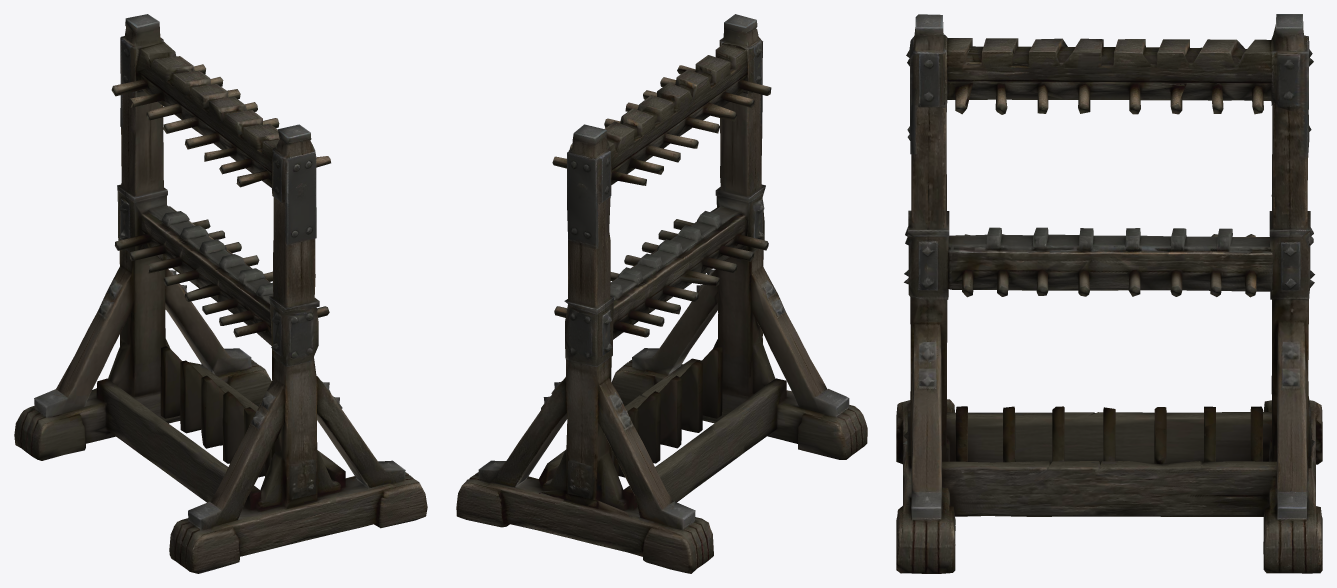
File: empty-weapon-rack.glb
The picture shows the model from 3 angles, left to right: view 1: azimuth 30°, elevation 25°; view 2: azimuth 150°, elevation 25°; view 3: azimuth 270°, elevation 25°; orthographic projection. The views are drawn at different scales.
Parts seen in each view (by area): view 1: tripo_node_79a97849-02a7-40db-ab69-7cb2ae6e792a; view 2: tripo_node_79a97849-02a7-40db-ab69-7cb2ae6e792a; view 3: tripo_node_79a97849-02a7-40db-ab69-7cb2ae6e792a.
Boxes of the visible parts, left/top/right/bottom form: tripo_node_79a97849-02a7-40db-ab69-7cb2ae6e792a: left=14, top=14, right=427, bottom=573; tripo_node_79a97849-02a7-40db-ab69-7cb2ae6e792a: left=456, top=14, right=867, bottom=573; tripo_node_79a97849-02a7-40db-ab69-7cb2ae6e792a: left=896, top=14, right=1322, bottom=573.
Bounding box in the file's own units: 0.6041 × 1 × 0.7955.
1 material, 1 textured.
